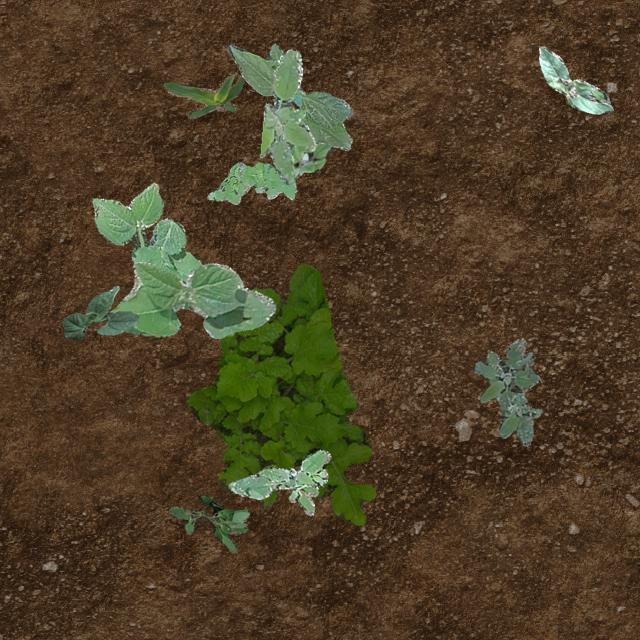crop: (225, 42, 352, 150), (108, 260, 274, 338), (538, 46, 612, 112), (61, 284, 138, 338), (162, 72, 244, 118)
weed: (186, 262, 374, 526), (90, 182, 200, 282), (258, 48, 314, 184), (472, 336, 540, 446), (228, 448, 330, 514), (168, 492, 248, 552), (207, 162, 296, 204), (290, 142, 334, 176)
